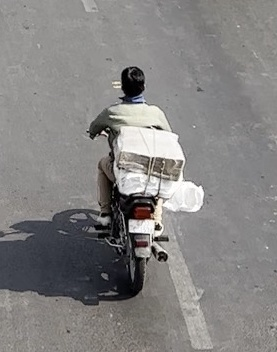BikeWithRider: (80, 61, 208, 299)
NoHelmet: (113, 62, 152, 104)
